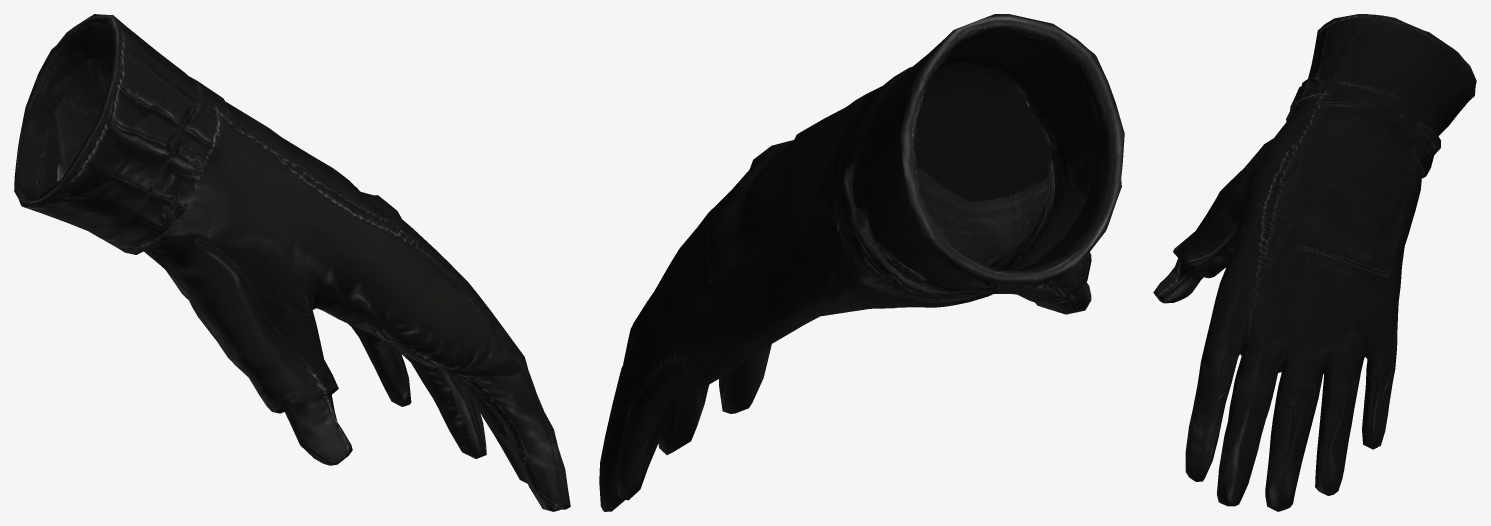
3 renders of one model, left to right at view 1: azimuth 30°, elevation 25°; view 2: azimuth 150°, elevation 25°; view 3: azimuth 270°, elevation 25°, orthographic. The views are drawn at different scales.
Visible parts, largest first — view 1: Mesh1.0; view 2: Mesh1.0; view 3: Mesh1.0.
Part boxes in pixels (x1,y1,x2,y2): Mesh1.0: [14, 14, 570, 511]; Mesh1.0: [599, 14, 1124, 511]; Mesh1.0: [1153, 14, 1476, 511].
Bounding box in the file's own units: 188 × 200 × 159.
Materials: 1 (1 with a texture image).
